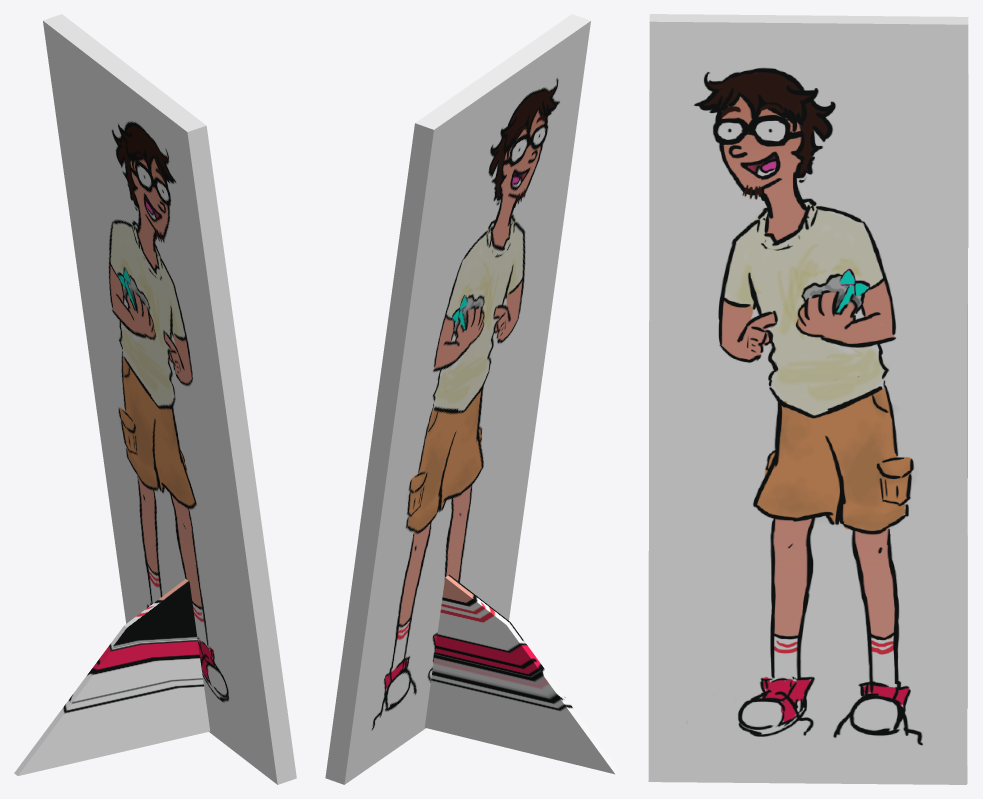
The model's file is rock guy.fbx.
3 views of the same model, side by side, from view 1: azimuth 30°, elevation 25°; view 2: azimuth 150°, elevation 25°; view 3: azimuth 270°, elevation 25° (orthographic). The views are drawn at different scales.
Parts seen in each view (by area): view 1: Cube; view 2: Cube; view 3: Cube.
Part boxes in pixels (box(x1,y1,x2,y2)): Cube: box(14, 14, 296, 784); Cube: box(325, 14, 619, 784); Cube: box(648, 14, 968, 784).
Bounding box in the file's own units: 1.16 × 3.51 × 1.42.
